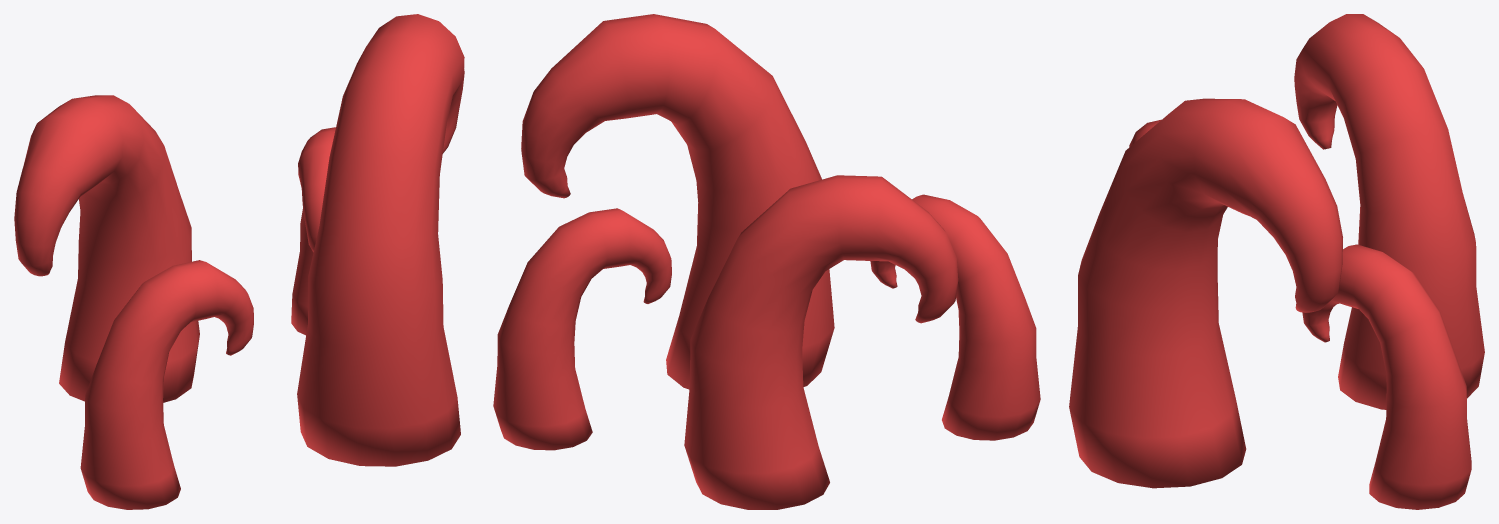
Rendered from Tentacle Clump.FBX.
3 renders of one model, left to right at view 1: azimuth 30°, elevation 25°; view 2: azimuth 150°, elevation 25°; view 3: azimuth 270°, elevation 25°, orthographic. The views are drawn at different scales.
Parts seen in each view (by area): view 1: Tentacle002, Tentacle001, Tentacle, Tentacle003; view 2: Tentacle001, Tentacle002, Tentacle003, Tentacle; view 3: Tentacle002, Tentacle001, Tentacle003.
Boxes of the visible parts, <box> form: Tentacle002: <box>297,14,464,466</box>; Tentacle001: <box>14,95,199,402</box>; Tentacle: <box>80,260,253,509</box>; Tentacle003: <box>291,127,335,335</box>; Tentacle001: <box>684,175,958,509</box>; Tentacle002: <box>521,14,834,389</box>; Tentacle003: <box>493,208,671,450</box>; Tentacle: <box>870,194,1040,440</box>; Tentacle002: <box>1069,98,1342,488</box>; Tentacle001: <box>1294,14,1484,409</box>; Tentacle003: <box>1302,244,1471,509</box>.
Size of the model in its own units: 246 by 191 by 190.
